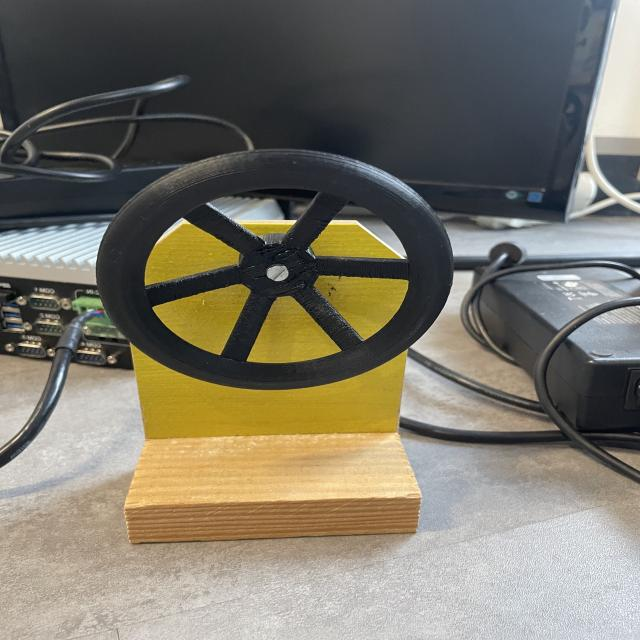Wheel Handle Valve Threaded: (79, 140, 464, 400)
